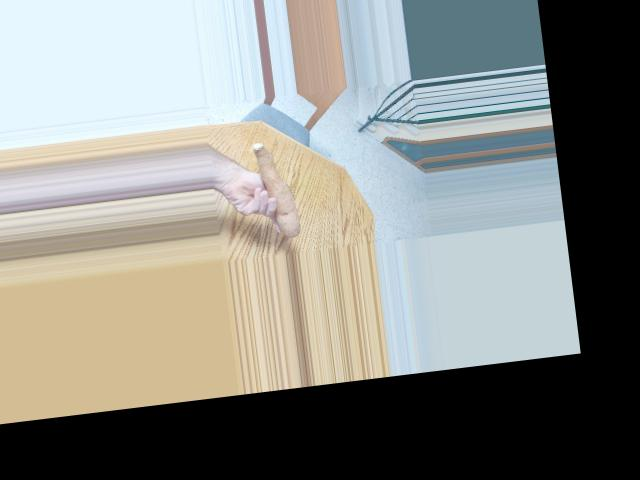sweet_potato: (248, 136, 305, 239)
